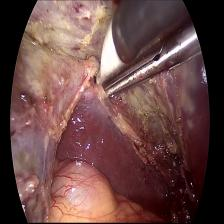Grasper: (100, 34, 180, 113)
Hook: (88, 21, 124, 93)
